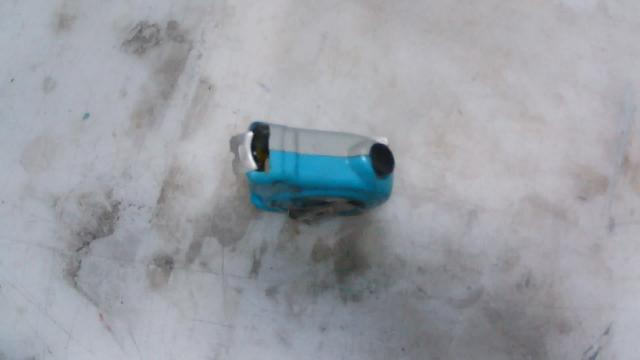meteran: (225, 97, 405, 254)
